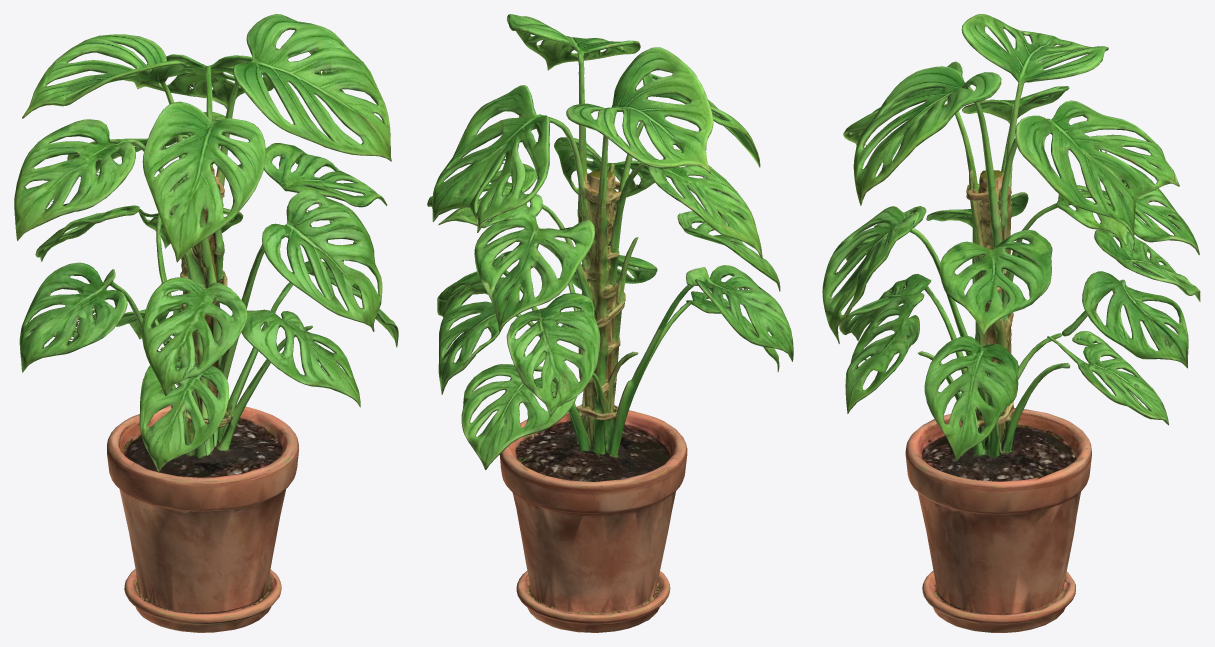
Rendered from plant.glb.
3 renders of one model, left to right at view 1: azimuth 30°, elevation 25°; view 2: azimuth 150°, elevation 25°; view 3: azimuth 270°, elevation 25°, orthographic. The views are drawn at different scales.
Visible parts, largest first — view 1: Mesh_0; view 2: Mesh_0; view 3: Mesh_0.
Boxes of the visible parts, <box> form: Mesh_0: <box>14,14,398,632</box>; Mesh_0: <box>427,14,793,632</box>; Mesh_0: <box>822,14,1200,632</box>.
Bounding box in the file's own units: 1.28 × 1.91 × 1.17.
1 material, 1 textured.
